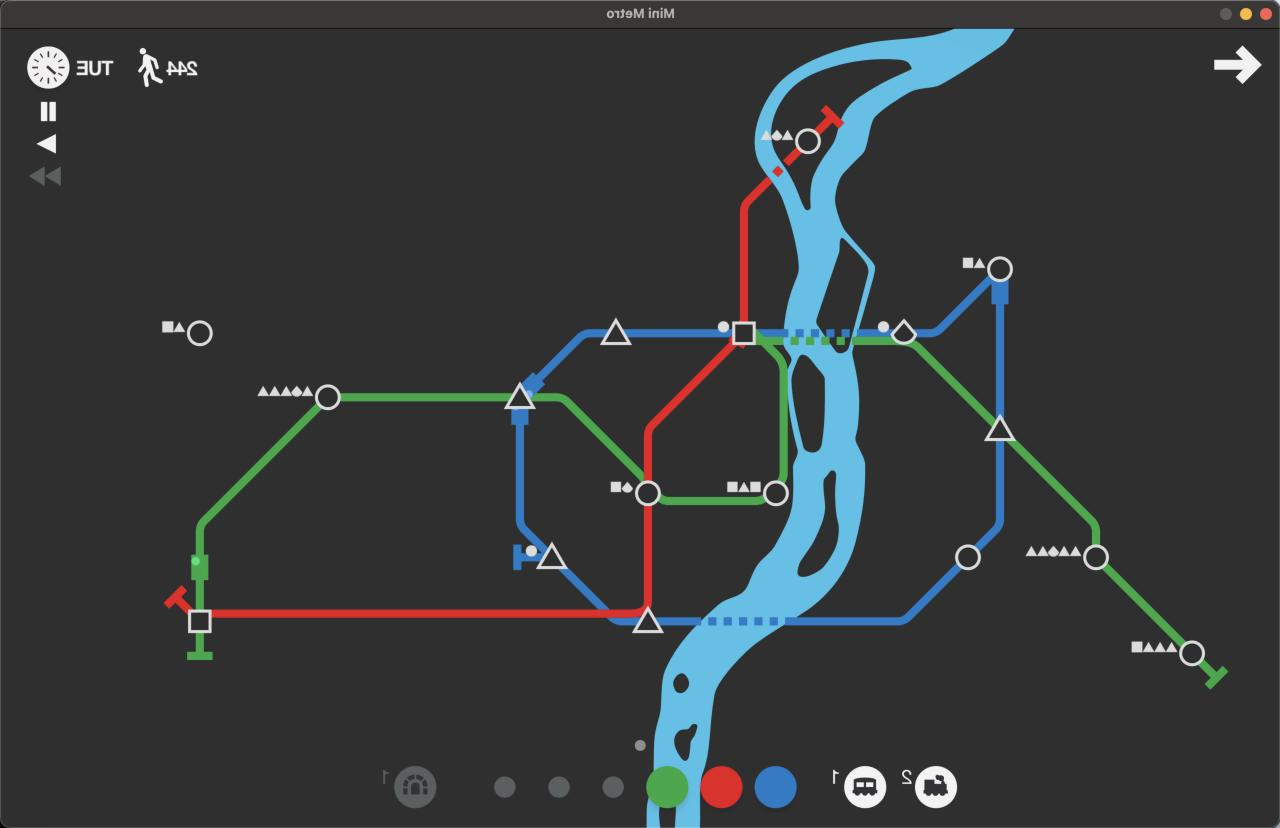BLUE LINE: (506, 330, 607, 544), (785, 565, 960, 624), (911, 276, 988, 339), (538, 329, 606, 379), (516, 424, 543, 547), (992, 280, 1008, 425), (558, 567, 608, 608), (561, 570, 605, 606), (625, 328, 728, 339), (993, 439, 1004, 530), (974, 521, 1004, 552), (514, 543, 540, 571), (572, 575, 593, 602), (656, 617, 701, 626), (511, 410, 531, 424), (857, 329, 891, 337), (757, 329, 788, 337), (612, 618, 638, 627), (561, 558, 568, 571), (516, 545, 523, 557), (862, 330, 881, 334), (770, 617, 778, 626), (841, 329, 850, 337), (811, 329, 821, 336), (615, 619, 628, 624), (755, 617, 763, 625), (724, 617, 732, 625), (708, 617, 716, 625), (796, 329, 804, 337), (739, 617, 748, 624), (826, 328, 834, 335)
DARK GREEN LINE: (898, 341, 1101, 544), (193, 402, 333, 608), (853, 337, 997, 424), (1006, 435, 1101, 545), (1007, 440, 1100, 543), (537, 395, 641, 478), (1103, 564, 1184, 645), (1101, 565, 1183, 645), (1101, 565, 1178, 641), (1106, 570, 1159, 620), (759, 336, 790, 420), (1012, 442, 1059, 484), (341, 393, 509, 401), (659, 495, 766, 505), (1199, 659, 1228, 687), (186, 633, 213, 661), (186, 635, 213, 662), (1200, 659, 1226, 687), (779, 419, 790, 480), (851, 335, 911, 346), (356, 393, 423, 400), (1057, 486, 1079, 506), (1203, 661, 1222, 684), (1202, 660, 1219, 684), (1161, 622, 1179, 642), (663, 499, 687, 503), (836, 337, 844, 347), (823, 337, 830, 345), (807, 336, 814, 344), (792, 337, 799, 344)
RED LINE: (644, 343, 734, 479), (212, 606, 643, 619), (740, 177, 773, 321), (783, 105, 843, 166), (631, 506, 653, 613), (816, 105, 843, 133), (166, 585, 192, 612), (645, 515, 651, 543), (773, 166, 782, 176)
